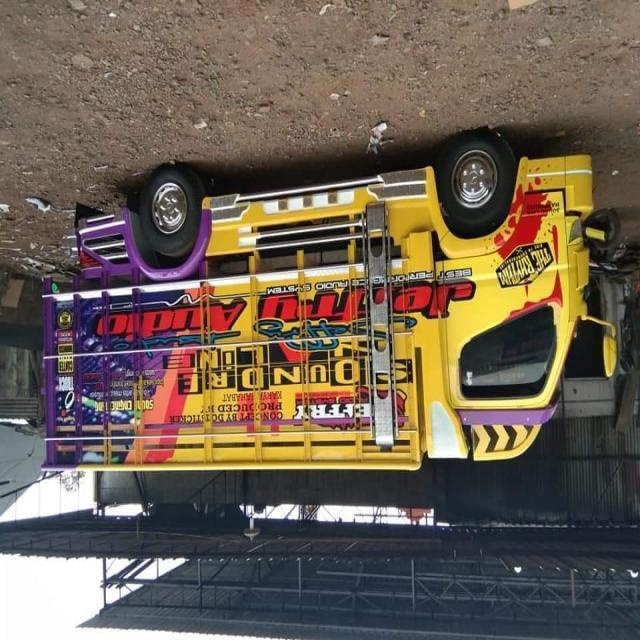Truck: (37, 130, 616, 472)
